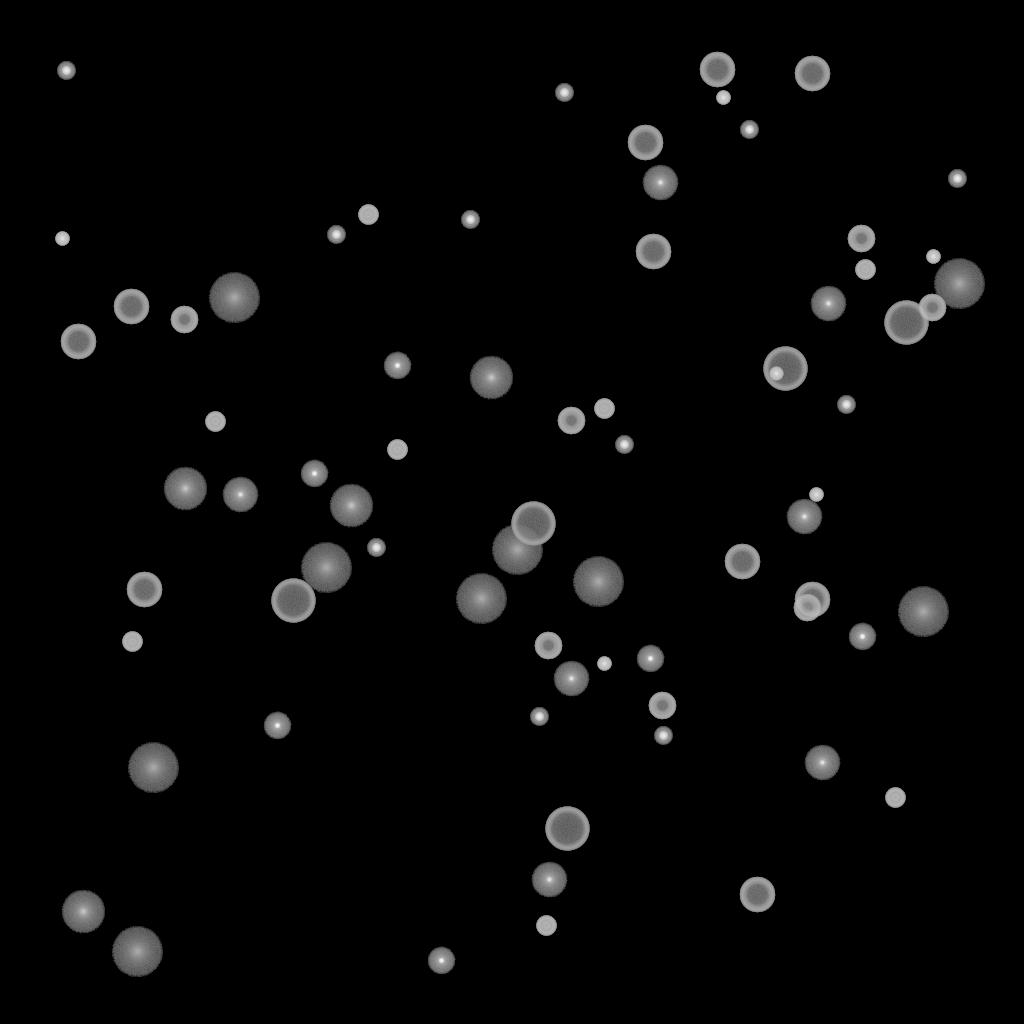depth:-10: (383, 352, 411, 380), (263, 712, 291, 740), (427, 947, 455, 975), (300, 460, 328, 488), (636, 645, 664, 673), (848, 623, 876, 651)
depth:-20: (740, 121, 758, 139), (367, 539, 385, 557), (948, 170, 966, 188), (461, 211, 479, 229), (327, 226, 345, 244), (837, 396, 855, 414), (654, 727, 672, 745), (555, 84, 573, 102), (615, 436, 633, 454), (57, 62, 75, 80), (530, 708, 548, 726)
depth:-30: (55, 232, 69, 246), (597, 657, 611, 671), (769, 367, 783, 381), (716, 91, 730, 105), (926, 250, 940, 264), (809, 488, 823, 502)
depth:-40: (122, 632, 142, 652), (885, 788, 905, 808), (855, 260, 875, 280), (205, 412, 225, 432), (358, 205, 378, 225), (536, 916, 556, 936), (594, 399, 614, 419), (387, 440, 407, 460)
depth:-50: (534, 632, 562, 660), (918, 294, 946, 322), (170, 306, 198, 334), (793, 594, 821, 622), (847, 225, 875, 253), (557, 407, 585, 435), (648, 692, 676, 720)
depth:-60: (60, 324, 96, 360), (627, 125, 663, 161), (635, 234, 671, 270), (126, 572, 162, 608), (739, 877, 775, 913), (794, 582, 830, 618), (113, 289, 149, 325), (794, 56, 830, 92), (724, 544, 760, 580), (699, 52, 735, 88)
depth:-70: (545, 807, 589, 851), (511, 502, 555, 546), (884, 301, 928, 345), (763, 347, 807, 391), (271, 579, 315, 623)
depth:0: (531, 862, 567, 898), (553, 661, 589, 697), (810, 286, 846, 322), (642, 165, 678, 201), (786, 499, 822, 535), (804, 745, 840, 781), (222, 477, 258, 513)
depth:10: (469, 356, 513, 400), (329, 484, 373, 528), (61, 890, 105, 934), (163, 467, 207, 511)
depth:20: (897, 587, 949, 637), (127, 743, 179, 793), (933, 259, 985, 309), (300, 543, 352, 593), (491, 525, 543, 575), (208, 273, 260, 323), (455, 574, 507, 624), (111, 927, 163, 977), (572, 557, 624, 607)
